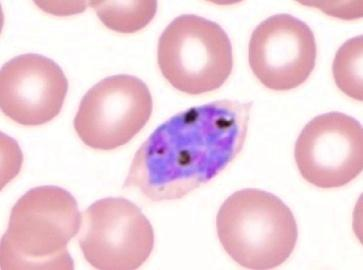Infected: (110, 66, 241, 171)
Uninfected: (66, 0, 146, 82), (130, 175, 206, 254), (210, 121, 289, 194), (208, 0, 288, 71), (279, 14, 355, 85), (0, 82, 69, 158), (47, 178, 115, 255), (295, 143, 363, 215)
